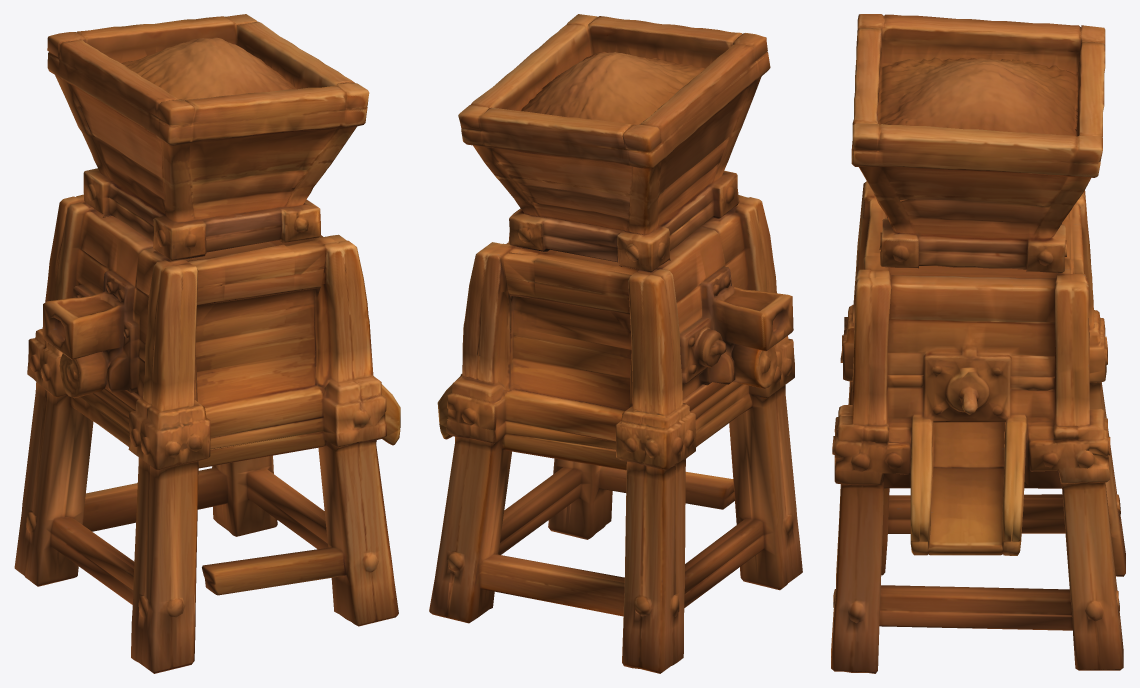
File: tripo_convert_48699d4e-7db7-41f7-8985-2d33f3664b0a.glb
The picture shows the model from 3 angles, left to right: view 1: azimuth 30°, elevation 25°; view 2: azimuth 150°, elevation 25°; view 3: azimuth 270°, elevation 25°; orthographic projection. The views are drawn at different scales.
Visible parts, largest first — view 1: tripo_node_48699d4e-7db7-41f7-8985-2d33f3664b0a; view 2: tripo_node_48699d4e-7db7-41f7-8985-2d33f3664b0a; view 3: tripo_node_48699d4e-7db7-41f7-8985-2d33f3664b0a.
Part boxes in pixels (left/top/right/bottom): tripo_node_48699d4e-7db7-41f7-8985-2d33f3664b0a: left=14, top=14, right=400, bottom=673; tripo_node_48699d4e-7db7-41f7-8985-2d33f3664b0a: left=429, top=14, right=802, bottom=673; tripo_node_48699d4e-7db7-41f7-8985-2d33f3664b0a: left=831, top=14, right=1125, bottom=673.
Size of the model in its own units: 0.5958 by 0.9771 by 0.4694.
1 material, 1 textured.
